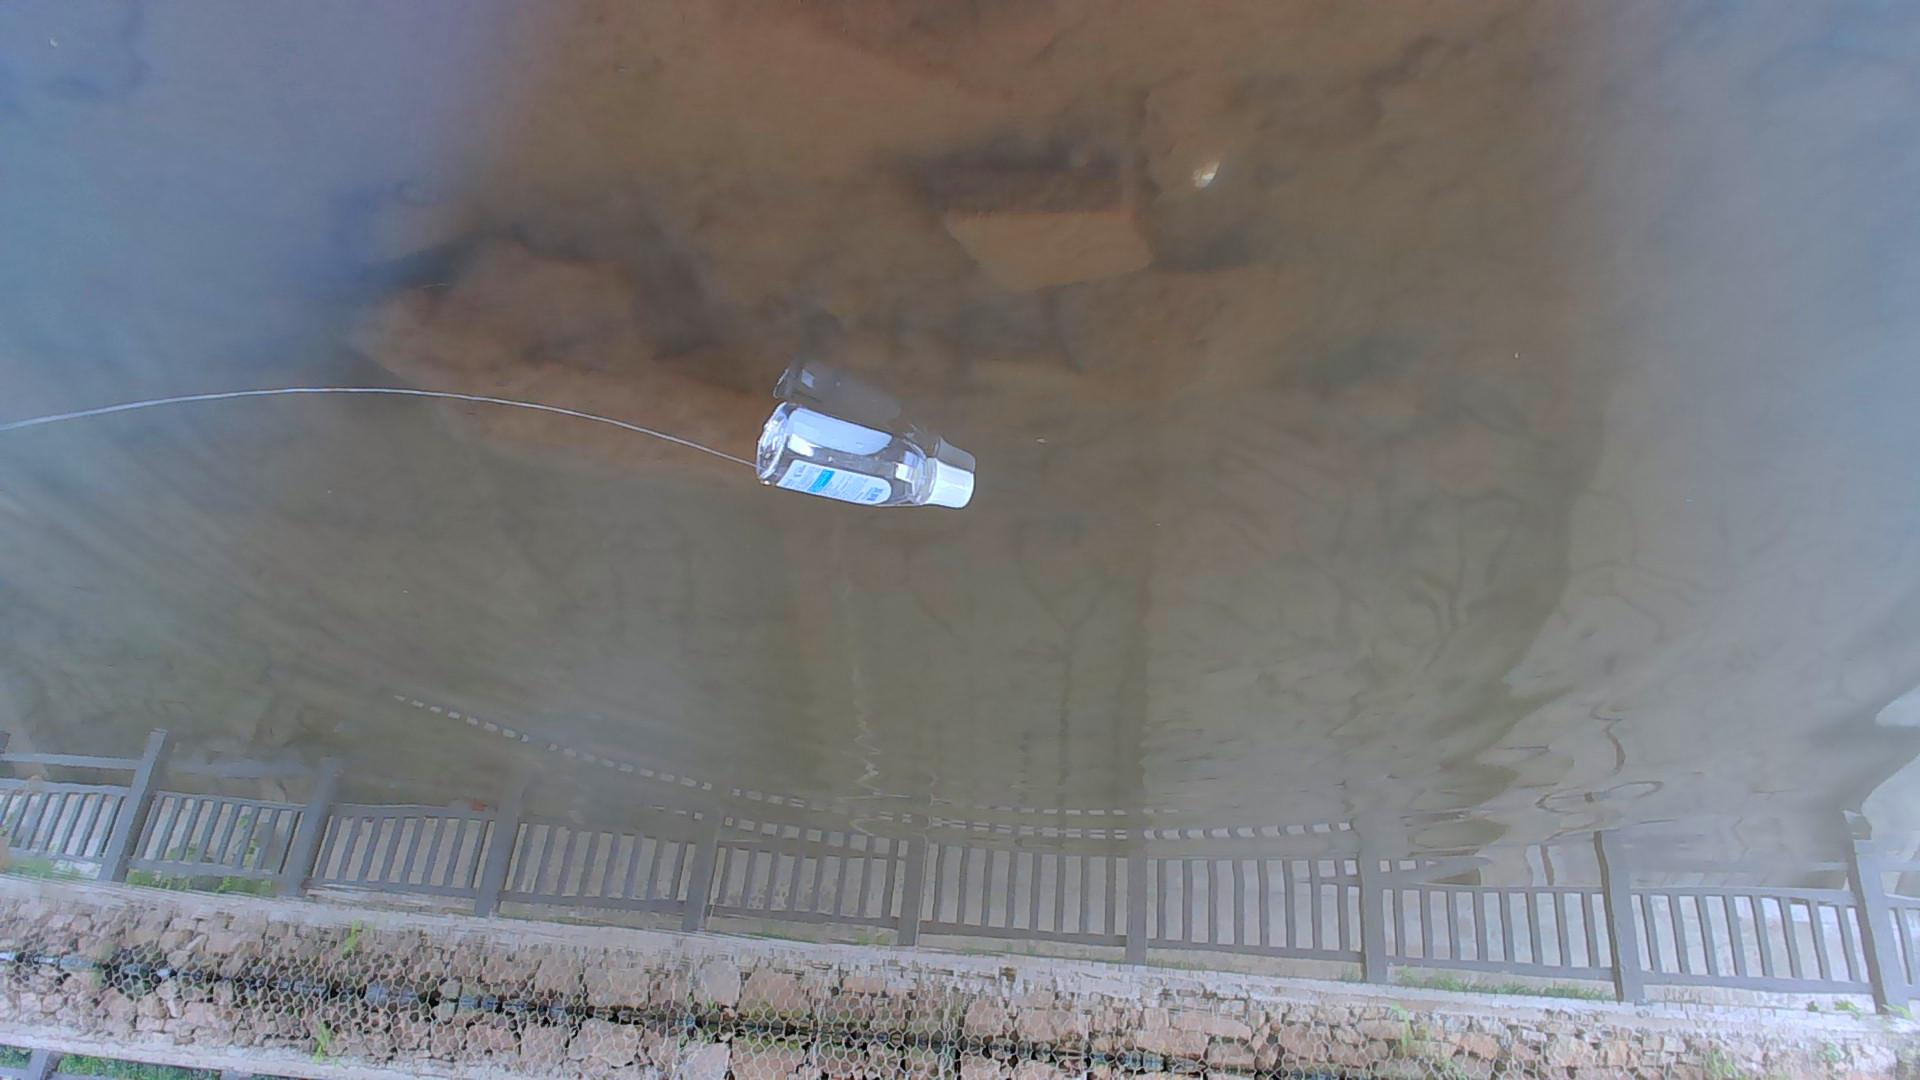Glass: (754, 397, 978, 513)
